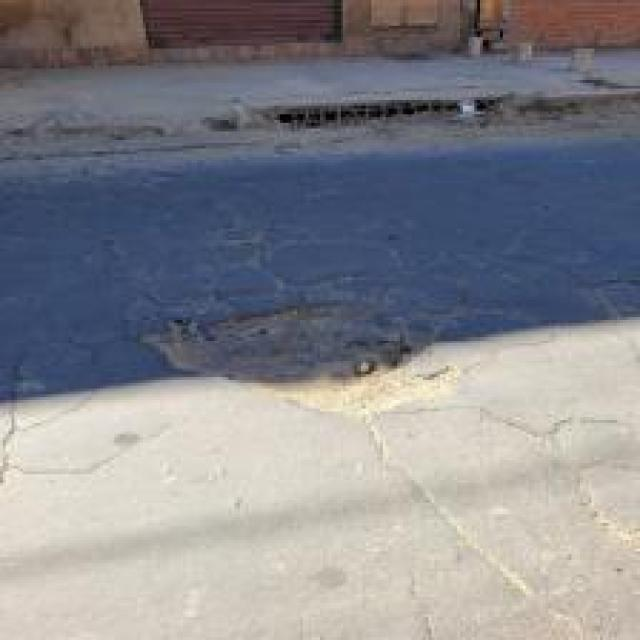BACHE: (143, 302, 466, 415)
GRIETA: (363, 418, 533, 597), (390, 403, 638, 438), (572, 456, 639, 555)
PIEL DE COCODRILO: (0, 172, 639, 493)
